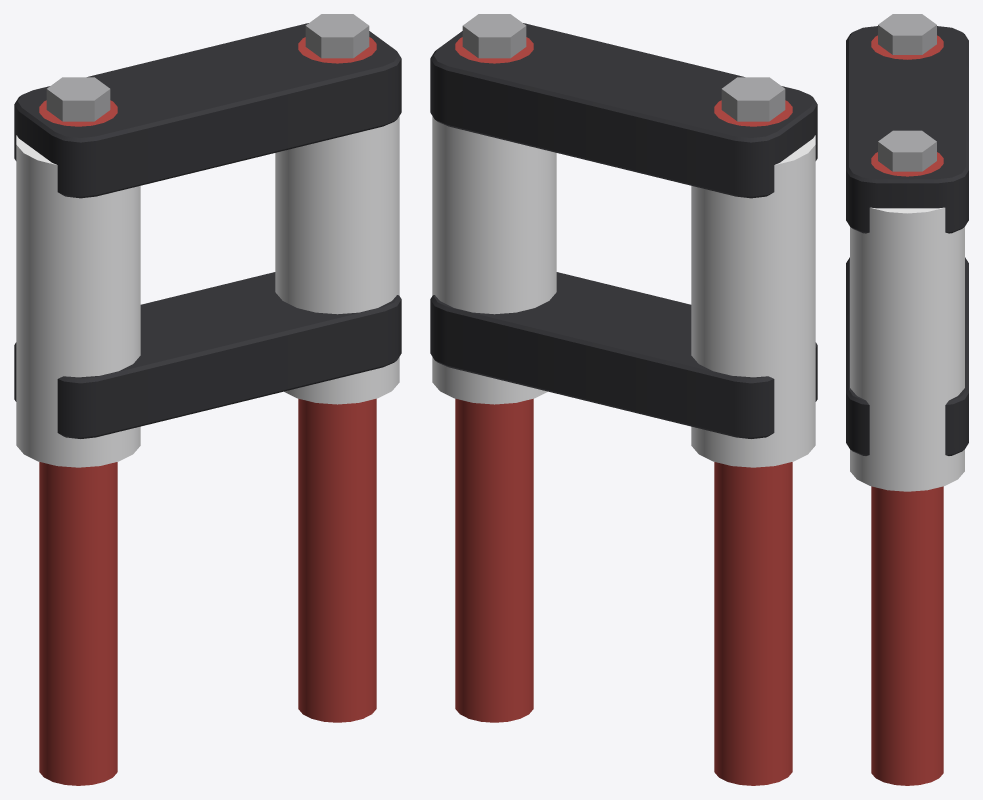
File: shrouded_classic_fork_upper.glb
The picture shows the model from 3 angles, left to right: view 1: azimuth 30°, elevation 25°; view 2: azimuth 150°, elevation 25°; view 3: azimuth 270°, elevation 25°; orthographic projection. The views are drawn at different scales.
Parts seen in each view (by area): view 1: lod0; view 2: lod0; view 3: lod0.
Boxes of the visible parts, box(x1,y1,x2,y2) form: lod0: box(14, 14, 401, 785); lod0: box(430, 14, 817, 785); lod0: box(846, 14, 968, 785).
Size of what is drawn, in the model's own units: 0.256 by 0.452 by 0.08.
